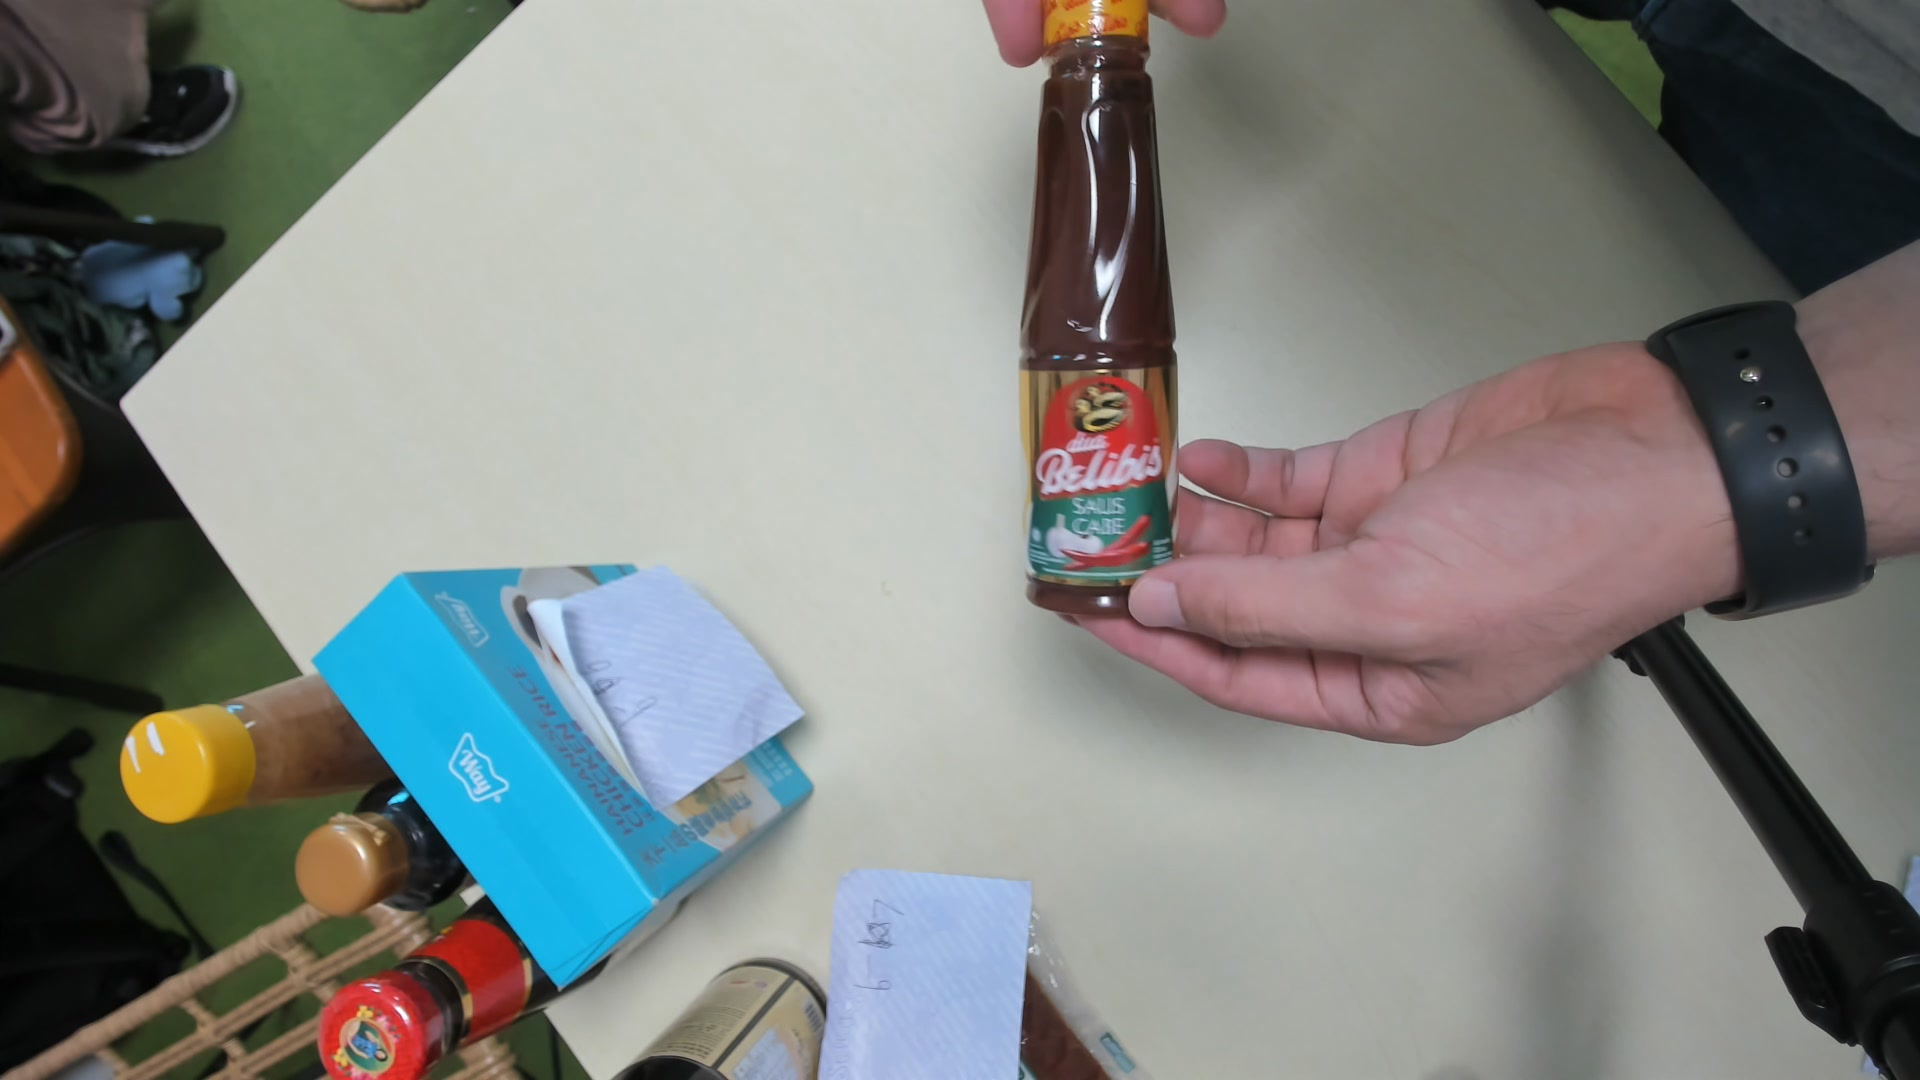KetchupChillSauce_100-199g_Halal_NonHealthy: (1013, 1, 1196, 616)
